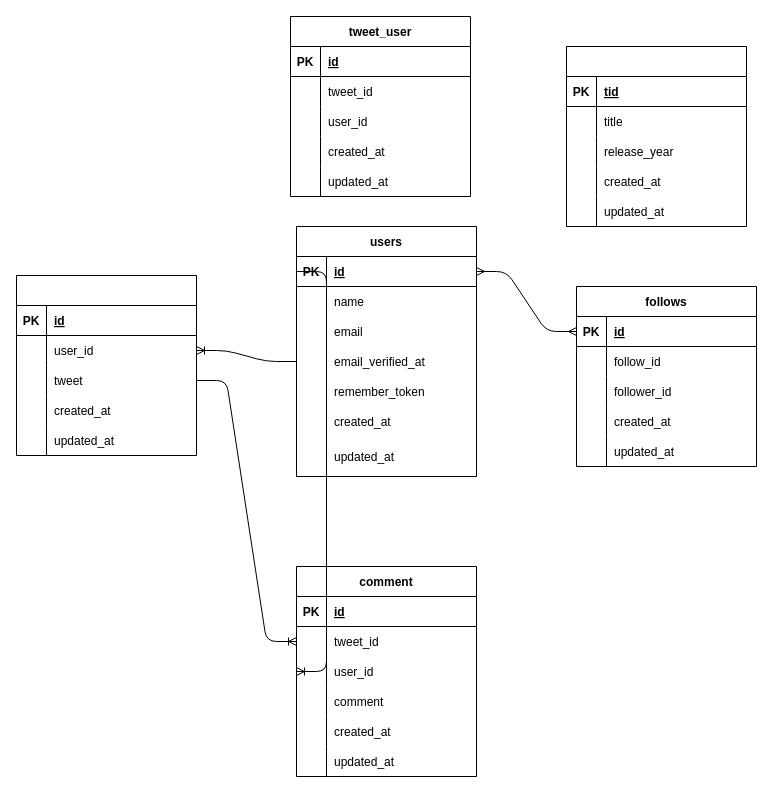
The diagram is 773 pixels wide and 793 high, and some of its shapes have lost their labels. The shapes that lost their labels are listed below. From the top down, each one's box as (x1, y1, x2, y2) in pixels, then its label:
(566, 46, 746, 226): animes
(16, 274, 196, 456): tweets
